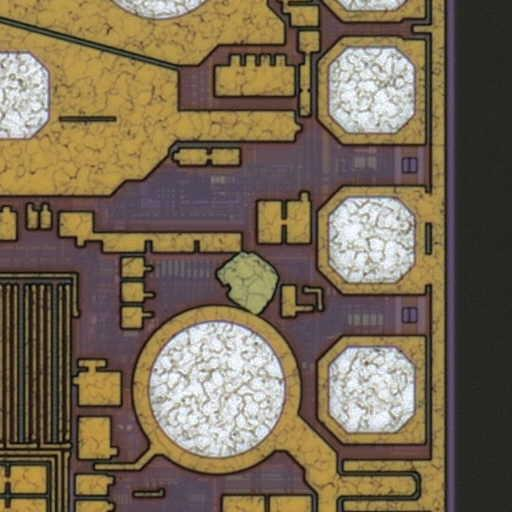BLOCK ETCH: (213, 248, 285, 320)
